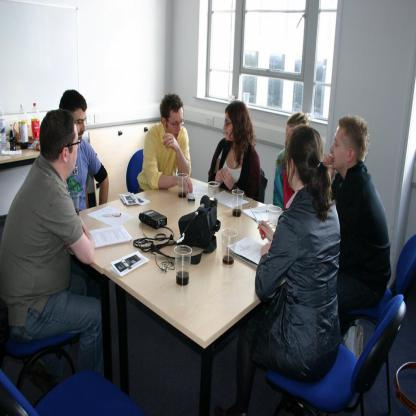face: (331, 131, 349, 168), (66, 131, 80, 173), (167, 113, 185, 142), (71, 113, 87, 145), (224, 116, 237, 141)
